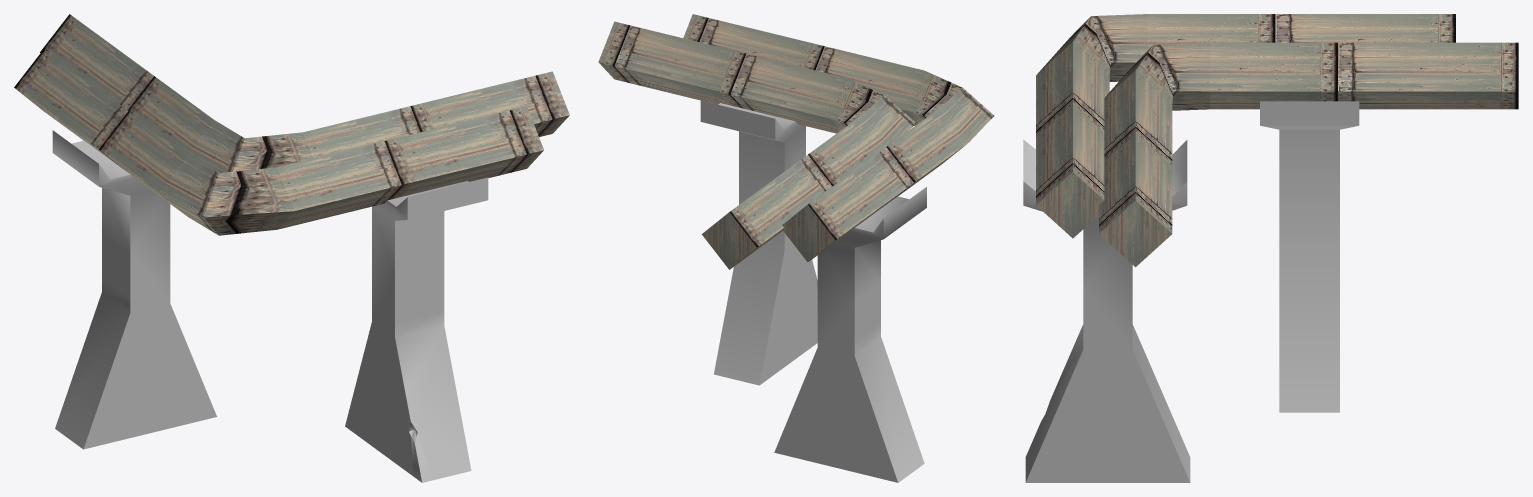
File: pipe_gas_curve_lod.fbx
3 renders of one model, left to right at view 1: azimuth 30°, elevation 25°; view 2: azimuth 150°, elevation 25°; view 3: azimuth 270°, elevation 25°, orthographic. The views are drawn at different scales.
Visible parts, largest first — view 1: Mesh Object; view 2: Mesh Object; view 3: Mesh Object.
Boxes of the visible parts, x1,y1,x2,y2 form: Mesh Object: (14, 14, 569, 482); Mesh Object: (598, 14, 994, 482); Mesh Object: (1023, 14, 1518, 482).
Size of the model in its own units: 4.74 by 3.71 by 4.74.
